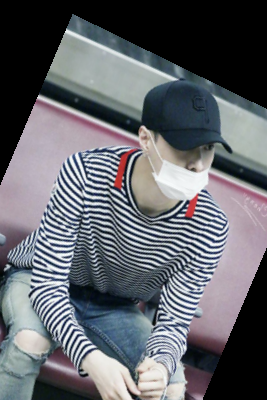mask_weared_incorrect: (133, 79, 237, 205)
